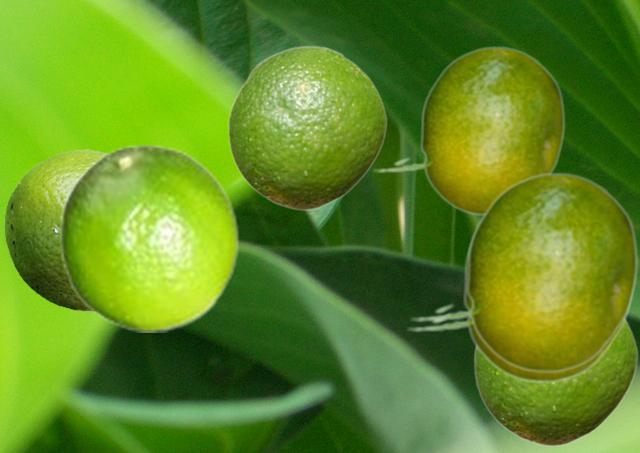calamansi: (409, 171, 637, 372), (406, 230, 634, 382), (59, 143, 239, 331), (372, 45, 564, 215), (227, 45, 386, 210), (473, 320, 637, 446), (4, 149, 105, 310)
